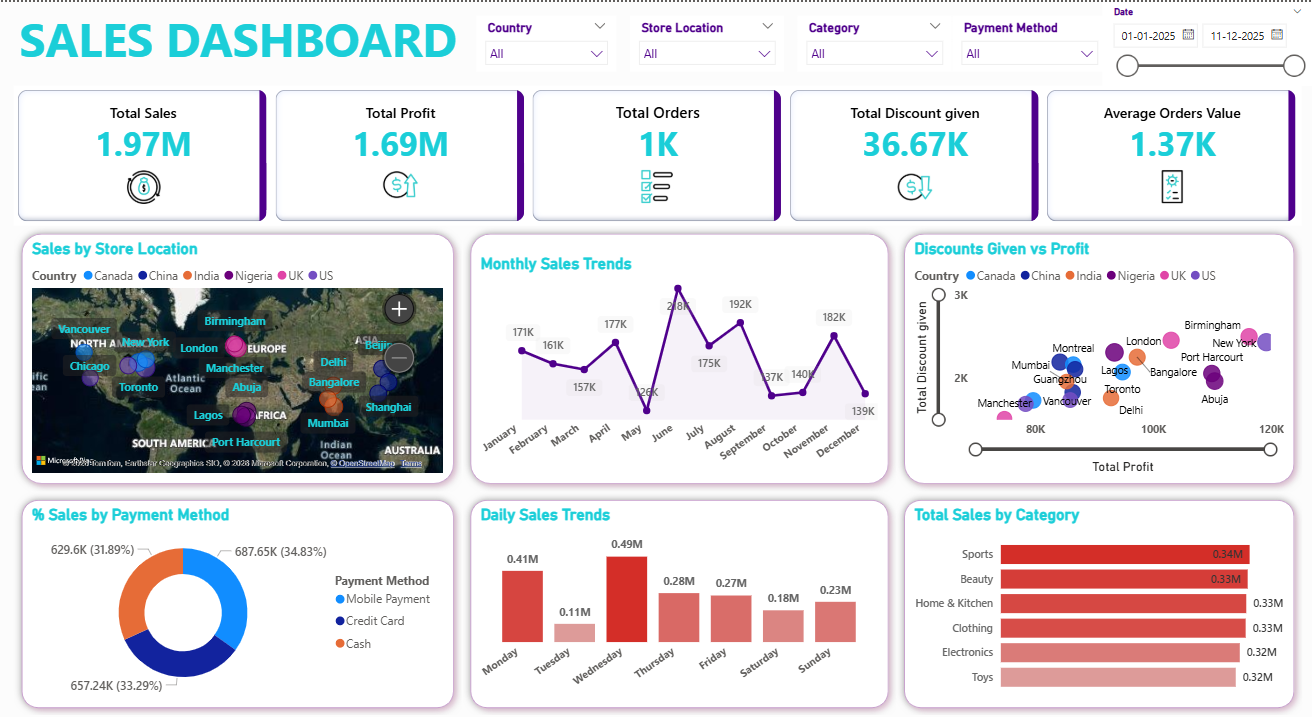

Layout of this report page (visuals, bound fields, positions):
{"tool":"powerbi","page":{"name":"Page 1","canvas":[1500,820],"ordinal":0},"visuals":[{"type":"cardVisual","fields":{"Data":["public Sales Data.Total Sales","public Sales Data.Total Profit","public Sales Data.Total Orders","public Sales Data.Total Discount given","public Sales Data.Average Orders Value"]},"box":[16,96,1472,160],"z":0},{"type":"textbox","box":[0,0,544,96],"z":1000},{"type":"slicer","fields":{"Values":["public Sales Data.Country"]},"box":[544,16,160,64],"z":2000},{"type":"slicer","fields":{"Values":["public Sales Data.Store Location"]},"box":[720,16,176,64],"z":3000},{"type":"slicer","fields":{"Values":["public Sales Data.Category"]},"box":[912,16,176,64],"z":4000},{"type":"shape","box":[16,256,512,304],"z":5000},{"type":"slicer","fields":{"Values":["public Sales Data.Payment Method"]},"box":[1088,16,176,64],"z":6000},{"type":"shape","box":[528,256,496,304],"z":7000},{"type":"slicer","fields":{"Values":["public Sales Data.Date"]},"box":[1260,0,240,96],"z":8000},{"type":"map","title":"Sales by Store Location ","fields":{"Category":["public Sales Data.Store Location"],"Size":["public Sales Data.Total Sales"],"Series":["public Sales Data.Country"]},"box":[32,272,480,272],"z":9000},{"type":"areaChart","title":"Monthly Sales Trends","fields":{"Y":["public Sales Data.Total Sales"],"Category":["public Sales Data.Month Name"]},"box":[544,288,464,256],"z":10000},{"type":"shape","box":[528,560,496,256],"z":11000},{"type":"columnChart","title":"Daily Sales Trends","fields":{"Category":["public Sales Data.Day Name"],"Y":["public Sales Data.Total Sales"]},"box":[544,576,464,224],"z":12000},{"type":"shape","box":[16,560,512,256],"z":12001},{"type":"donutChart","title":"% Sales by Payment Method","fields":{"Category":["public Sales Data.Payment Method"],"Y":["public Sales Data.Total Sales"]},"box":[32,576,480,224],"z":12002},{"type":"shape","box":[1024,256,464,304],"z":12003},{"type":"scatterChart","title":" Discounts Given vs Profit","fields":{"X":["public Sales Data.Total Profit"],"Category":["public Sales Data.Store Location"],"Series":["public Sales Data.Country"],"Size":["public Sales Data.Total Orders"],"Y":["public Sales Data.Total Discount given"]},"box":[1040,272,432,272],"z":12004},{"type":"shape","box":[1024,560,464,256],"z":12005},{"type":"barChart","fields":{"Category":["public Sales Data.Category"],"Y":["public Sales Data.Total Sales"]},"box":[1040,576,432,224],"z":12006}]}

Visuals, with their boxes in screenshot pixels (x1, y1, x2, y2), scaled from the page's 1500x820 canvas onto the 1312x717 screenshot:
cardVisual - public Sales Data.Total Sales x public Sales Data.Total Profit: [x1=14, y1=84, x2=1302, y2=224]
textbox: [x1=0, y1=0, x2=476, y2=84]
slicer - public Sales Data.Country: [x1=476, y1=14, x2=616, y2=70]
slicer - public Sales Data.Store Location: [x1=630, y1=14, x2=784, y2=70]
slicer - public Sales Data.Category: [x1=798, y1=14, x2=952, y2=70]
shape: [x1=14, y1=224, x2=462, y2=490]
slicer - public Sales Data.Payment Method: [x1=952, y1=14, x2=1106, y2=70]
shape: [x1=462, y1=224, x2=896, y2=490]
slicer - public Sales Data.Date: [x1=1102, y1=0, x2=1311, y2=84]
"Sales by Store Location " map: [x1=28, y1=238, x2=448, y2=476]
"Monthly Sales Trends" areaChart: [x1=476, y1=252, x2=882, y2=476]
shape: [x1=462, y1=490, x2=896, y2=714]
"Daily Sales Trends" columnChart: [x1=476, y1=504, x2=882, y2=700]
shape: [x1=14, y1=490, x2=462, y2=714]
"% Sales by Payment Method" donutChart: [x1=28, y1=504, x2=448, y2=700]
shape: [x1=896, y1=224, x2=1302, y2=490]
" Discounts Given vs Profit" scatterChart: [x1=910, y1=238, x2=1288, y2=476]
shape: [x1=896, y1=490, x2=1302, y2=714]
barChart - public Sales Data.Category x public Sales Data.Total Sales: [x1=910, y1=504, x2=1288, y2=700]
